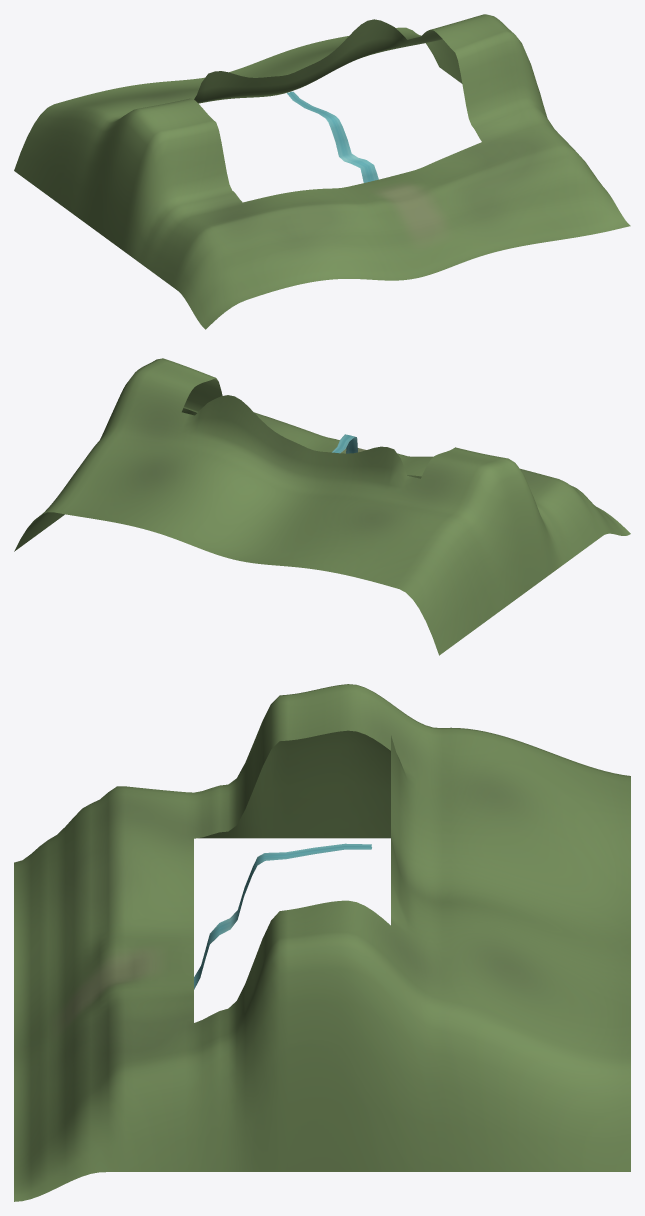
Rendered from valley-materials.fbx.
The picture shows the model from 3 angles, top to bottom: view 1: azimuth 30°, elevation 25°; view 2: azimuth 150°, elevation 25°; view 3: azimuth 270°, elevation 25°; orthographic projection. The views are drawn at different scales.
Parts seen in each view (by area): view 1: ConnectedValley, TwinCascade; view 2: ConnectedValley; view 3: ConnectedValley, TwinCascade.
Part boxes in pixels (box(x1,y1,x2,y2)): ConnectedValley: box(14, 14, 630, 329); TwinCascade: box(287, 91, 378, 182); ConnectedValley: box(14, 358, 630, 655); ConnectedValley: box(14, 684, 630, 1201); TwinCascade: box(194, 843, 371, 989).
Size of the model in its own units: 96000 by 33496 by 75000.
Materials: 2 (2 with a texture image).
